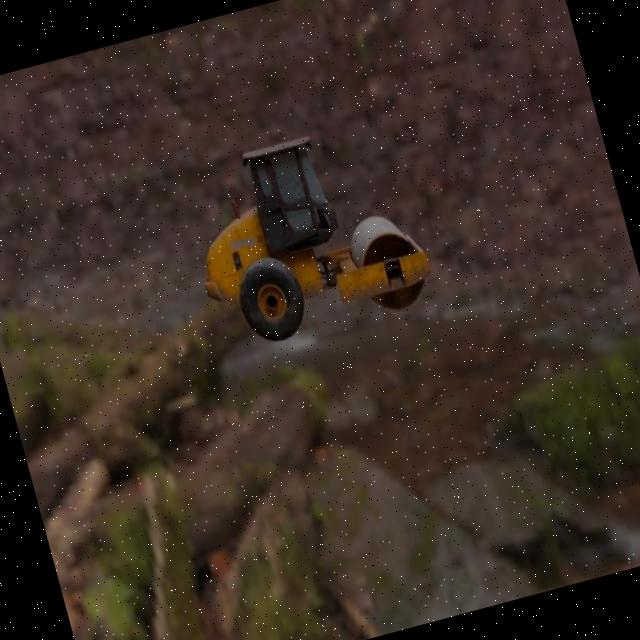Roller: (173, 113, 440, 360)
